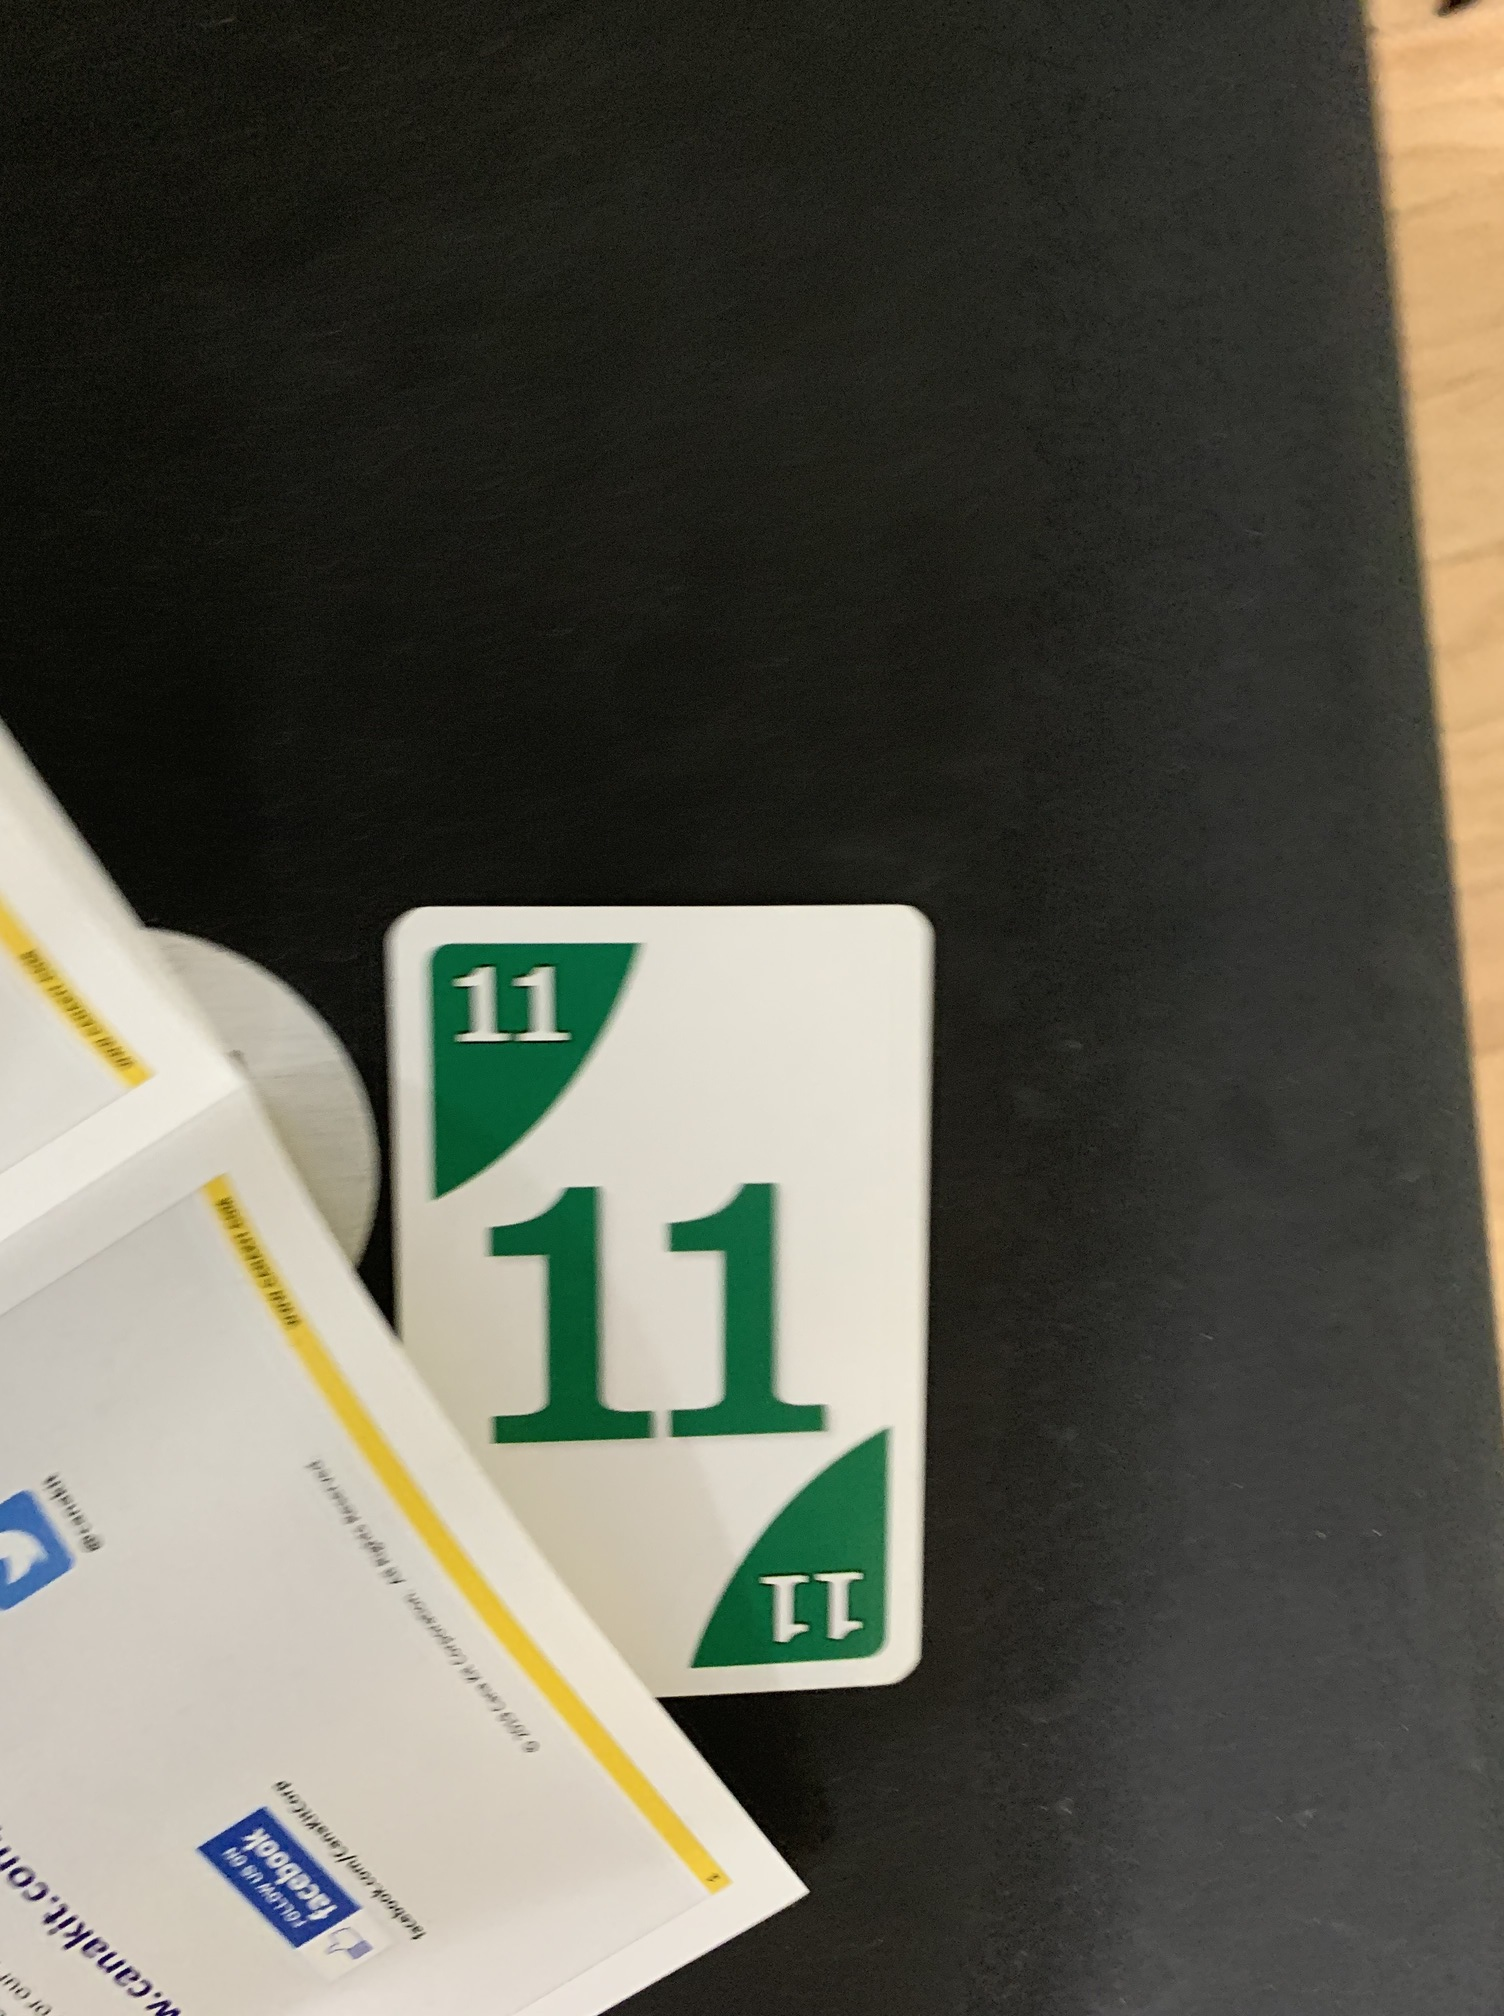eleven: (371, 890, 942, 1700)
